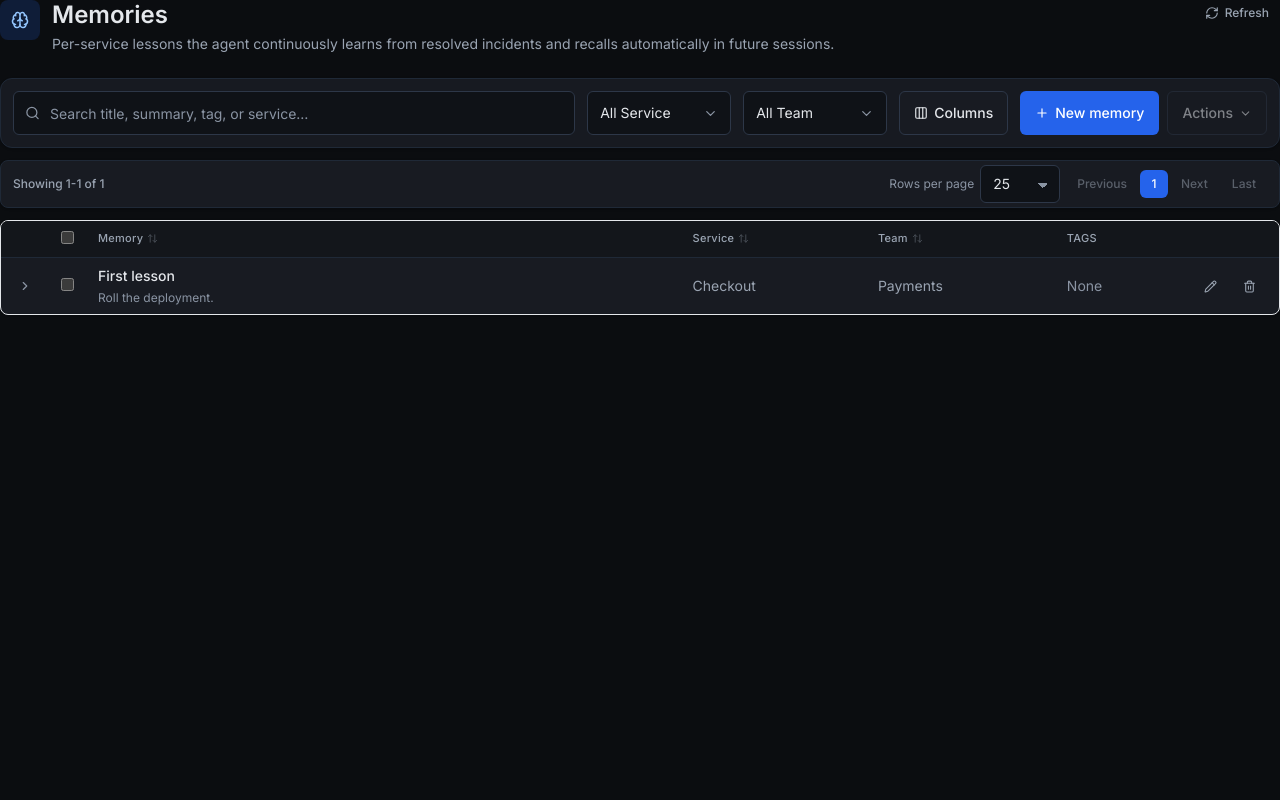
Scenario: Memories selection and actions › offers an admin Global and every service
Click the button "New memory".
click(1090, 113)  # box [1020, 91, 1159, 135]
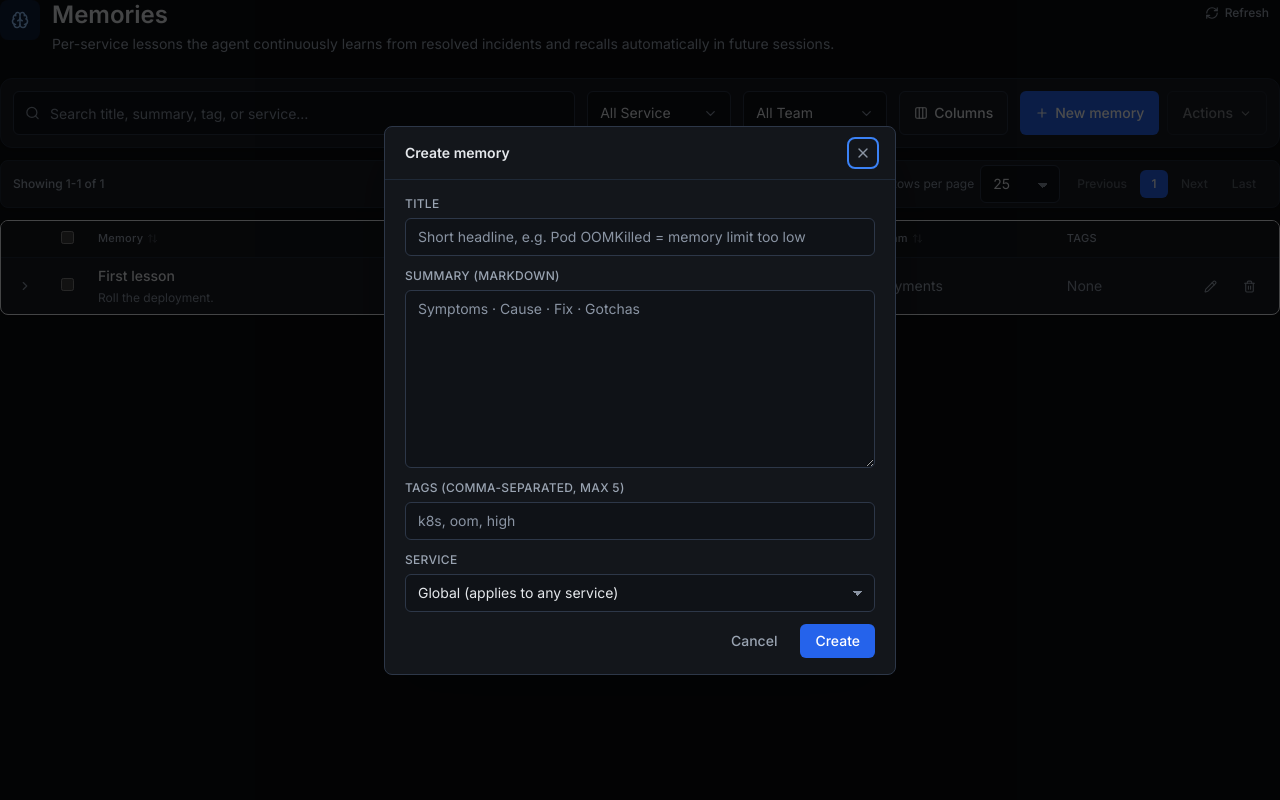
expect the dropdown with id "mem-service" is shown: met, box [405, 574, 875, 612]
